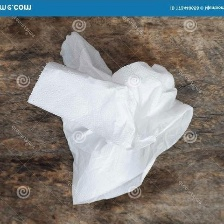tissue: (23, 28, 198, 210)
